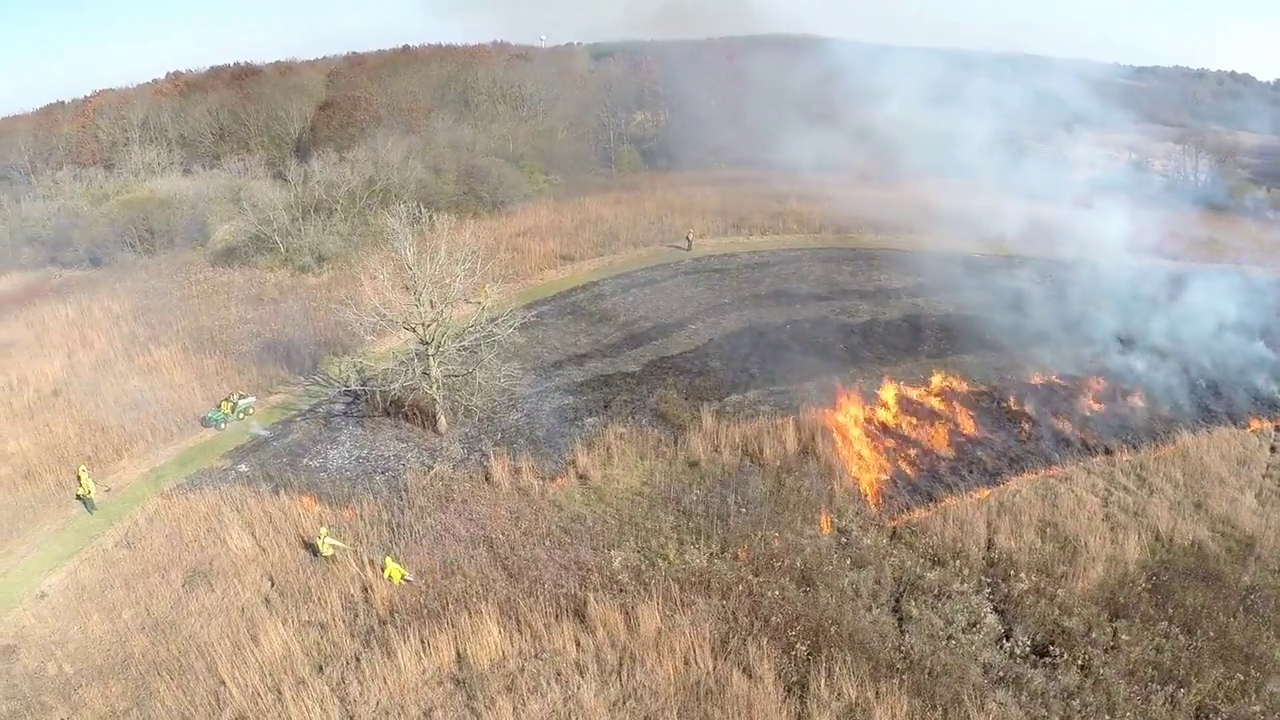forest_fire: (817, 371, 978, 510), (890, 466, 1060, 524), (1028, 373, 1108, 414), (1245, 417, 1279, 431), (819, 507, 833, 535)
